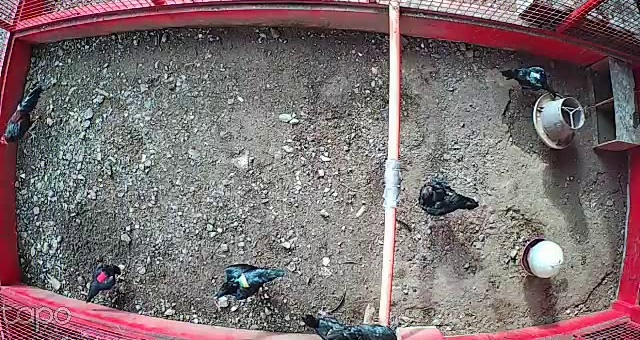Chicken: (214, 262, 284, 308), (498, 61, 562, 104), (416, 178, 482, 219), (84, 260, 123, 305), (299, 307, 346, 339), (326, 321, 402, 340)
Rooster: (0, 84, 50, 147)
Saddle_Color_Red: (98, 270, 106, 282)
Saddle_Color_YellowGreen: (236, 275, 251, 290)
